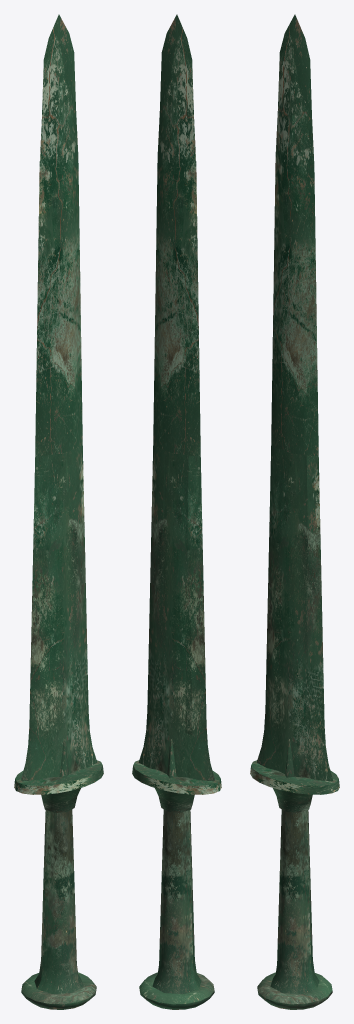
3 renders of one model, left to right at view 1: azimuth 30°, elevation 25°; view 2: azimuth 150°, elevation 25°; view 3: azimuth 330°, elevation 25°, orthographic.
Visible parts, largest first — view 1: Ob1; view 2: Ob1; view 3: Ob1.
Boxes of the visible parts, box(x1,y1,x2,y2) form: Ob1: box(14, 14, 103, 1009); Ob1: box(132, 14, 221, 1009); Ob1: box(250, 14, 339, 1009).
Bounding box in the file's own units: 24.75 × 272 × 18.93.
Materials: 1 (1 with a texture image).
